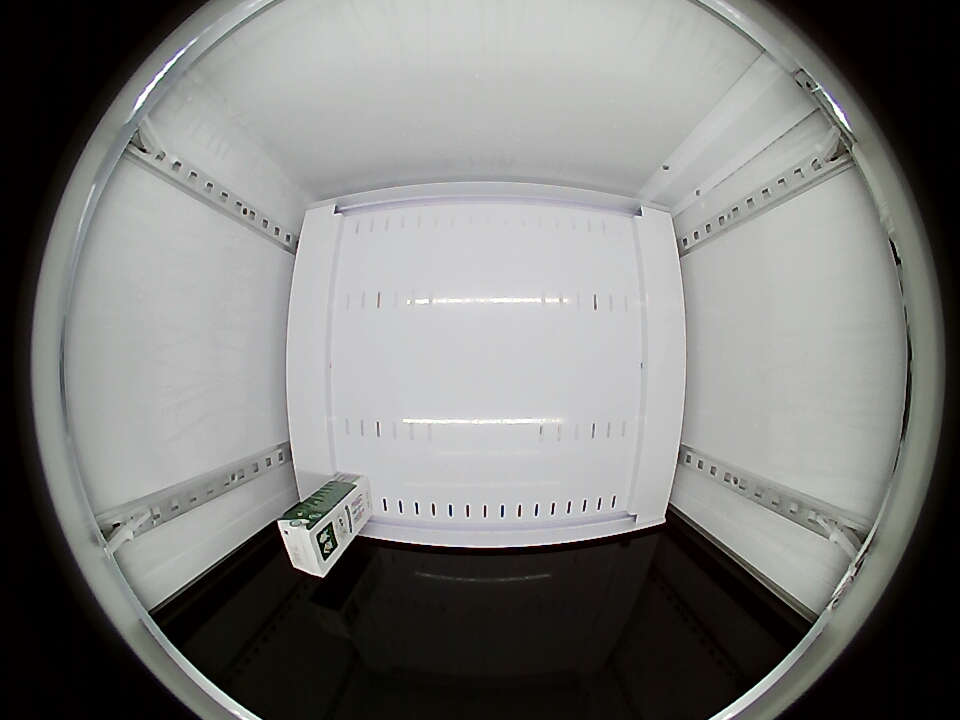jindian: (276, 504, 340, 578)
